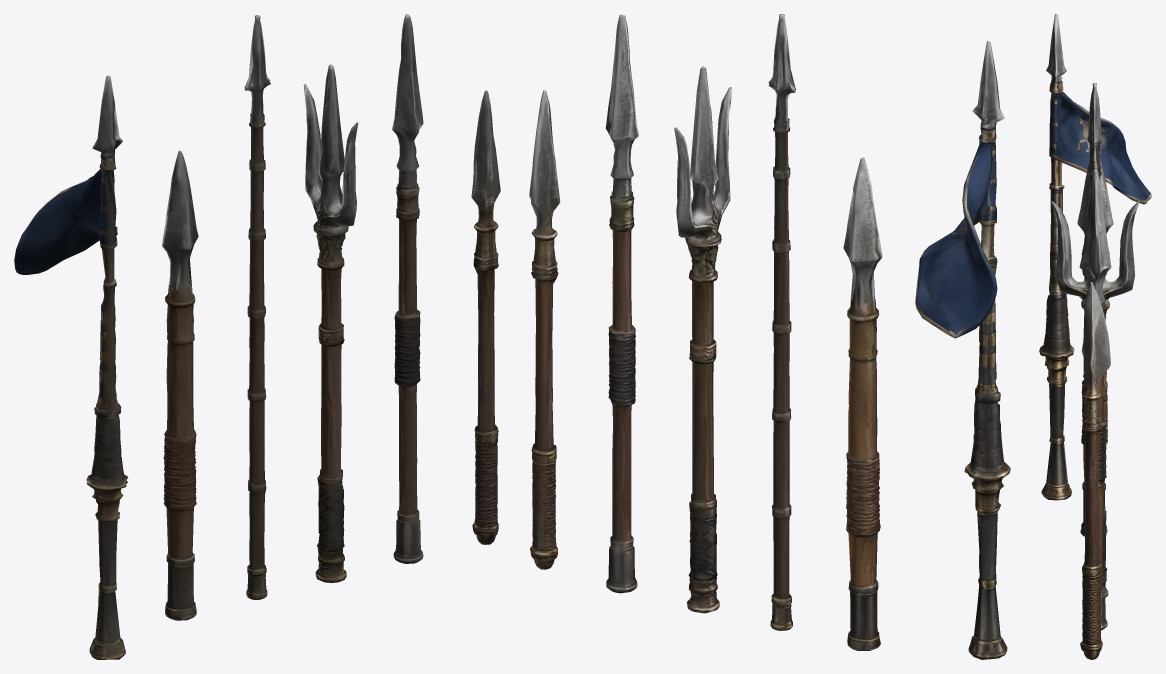
File: weapons_spears.glb
3 renders of one model, left to right at view 1: azimuth 30°, elevation 25°; view 2: azimuth 150°, elevation 25°; view 3: azimuth 270°, elevation 25°, orthographic. The views are drawn at different scales.
Visible parts, largest first — view 1: spear_lance, spear_trident, spear_javelin, spear_long, spear_pike, spear_short; view 2: spear_lance, spear_trident, spear_javelin, spear_long, spear_pike, spear_short; view 3: spear_lance, spear_short, spear_trident, spear_long, spear_javelin, spear_pike.
Boxes of the visible parts, bbox=[...] form: spear_lance: bbox=[14, 75, 127, 659]; spear_trident: bbox=[303, 64, 358, 582]; spear_javelin: bbox=[162, 150, 198, 620]; spear_long: bbox=[392, 14, 423, 563]; spear_pike: bbox=[244, 15, 270, 599]; spear_short: bbox=[471, 90, 500, 544]; spear_lance: bbox=[915, 41, 1010, 659]; spear_trident: bbox=[674, 66, 731, 613]; spear_javelin: bbox=[843, 157, 882, 650]; spear_long: bbox=[605, 14, 638, 593]; spear_pike: bbox=[768, 14, 795, 630]; spear_short: bbox=[529, 90, 560, 569]; spear_lance: bbox=[1039, 14, 1151, 500]; spear_short: bbox=[1080, 282, 1110, 659]; spear_trident: bbox=[1051, 169, 1139, 597]; spear_long: bbox=[1079, 174, 1111, 630]; spear_javelin: bbox=[1077, 158, 1113, 536]; spear_pike: bbox=[1087, 83, 1102, 187].
Size of the model in its own units: 0.6065 by 0.7248 by 0.1531.
Materials: 1 (1 with a texture image).
